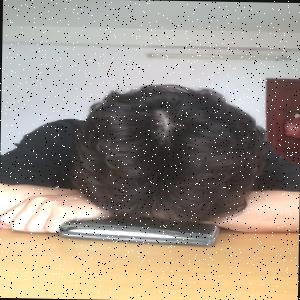sleep: (1, 85, 300, 237)
